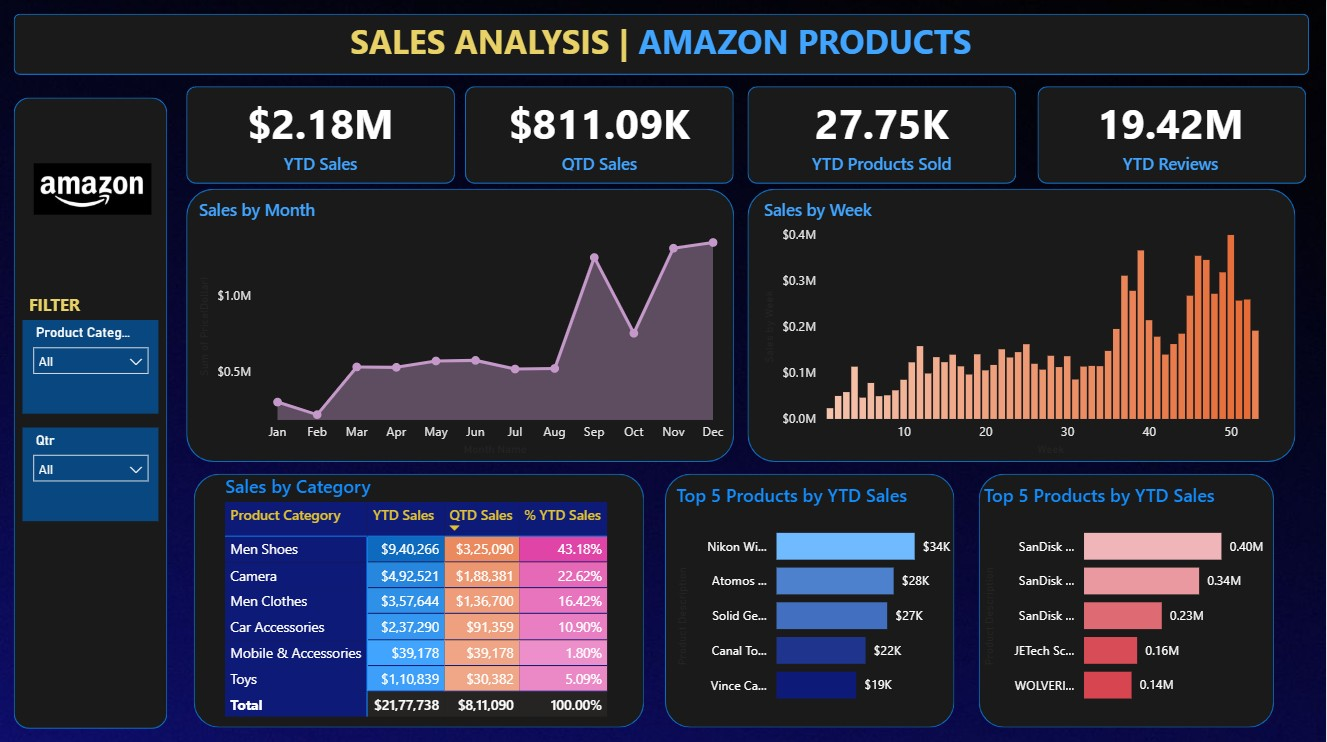

This screenshot's page, from the dashboard's own definition file:
{"tool":"powerbi","page":{"name":"Page 1","canvas":[1280,720],"ordinal":0},"visuals":[{"type":"shape","box":[179.6,82.7,259.4,94.1],"z":0,"group":"g1"},{"type":"shape","box":[13.7,13.7,1250.1,59],"z":0},{"type":"shape","box":[449,82.7,259.4,94.1],"z":1000,"group":"g1"},{"type":"textbox","box":[333,13.3,640.6,59.1],"z":1000},{"type":"card","fields":{"Values":["Amazon_Data.YTD Sales"]},"box":[186.7,89.1,245.2,80.1],"z":2000,"group":"g1"},{"type":"shape","box":[13.7,94.7,148.2,609.3],"z":2000},{"type":"shape","box":[721.2,82.7,259.4,94.1],"z":3000,"group":"g1"},{"type":"group","id":"g1","title":"Group 1","box":[179.6,82.7,1080.4,94.1],"z":3000},{"type":"shape","box":[1000.6,82.7,259.4,94.1],"z":4000,"group":"g1"},{"type":"shape","box":[179.6,182.4,528.8,263.7],"z":4000},{"type":"card","fields":{"Values":["Amazon_Data.QTD Sales"]},"box":[456.1,89.1,245.2,80.1],"z":5000,"group":"g1"},{"type":"areaChart","title":"Sales by Month","fields":{"Category":["Date Table.Month Name"],"Y":["Sum(Amazon_Data.Price(Dollar))"]},"box":[186.7,191,521.7,253.7],"z":5000},{"type":"card","fields":{"Values":["Amazon_Data.YTD Products Sold"]},"box":[728.4,89.1,245.2,80.1],"z":6000,"group":"g1"},{"type":"shape","box":[721.2,182.4,528.8,263.7],"z":6000},{"type":"card","fields":{"Values":["Amazon_Data.YTD Reviews"]},"box":[1007.8,89.1,245.2,80.1],"z":7000,"group":"g1"},{"type":"columnChart","title":"Sales by Week","fields":{"Category":["Date Table.Week"],"Y":["Sum(Amazon_Data.Price(Dollar))"]},"box":[732.7,191,507.4,253.7],"z":7000},{"type":"shape","box":[186.7,457.6,434.7,245.2],"z":8000},{"type":"pivotTable","title":"Sales by Category","fields":{"Rows":["Amazon_Data.Product Category"],"Values":["Amazon_Data.YTD Sales1","Amazon_Data.QTD Sales","Amazon_Data.YTD Sales"]},"box":[212.4,457.6,400.5,245.2],"z":9000},{"type":"shape","box":[641.4,457.6,279.4,245.2],"z":10000},{"type":"shape","box":[945,457.6,285.1,245.2],"z":11000},{"type":"clusteredBarChart","title":"Top 5 Products by YTD Sales","fields":{"Category":["Amazon_Data.Product Description"],"Y":["Amazon_Data.YTD Sales"]},"box":[647.9,465.7,284.7,228],"z":12000},{"type":"clusteredBarChart","title":"Top 5 Products by YTD Sales","fields":{"Category":["Amazon_Data.Product Description"],"Y":["Amazon_Data.YTD Reviews"]},"box":[944.6,465.7,284.7,228],"z":13000},{"type":"slicer","fields":{"Values":["Amazon_Data.Product Category"]},"box":[21.7,308.8,131.5,90.5],"z":14000},{"type":"slicer","fields":{"Values":["Date Table.Qtr"]},"box":[21.7,412.6,131.5,90.5],"z":15000},{"type":"image","box":[27.7,152,123.1,60.3],"z":16000},{"type":"textbox","box":[22.9,277.5,98.9,31.4],"z":17000}]}

Visuals, with their boxes in screenshot pixels (x1, y1, x2, y2), scaled from the page's 1280x720 canvas onto the 1327x742 screenshot:
shape: 186/85/455/182
shape: 14/14/1310/75
shape: 465/85/734/182
textbox: 345/14/1009/75
card - Amazon_Data.YTD Sales: 194/92/448/174
shape: 14/98/168/726
shape: 748/85/1017/182
"Group 1" group: 186/85/1306/182
shape: 1037/85/1306/182
shape: 186/188/734/460
card - Amazon_Data.QTD Sales: 473/92/727/174
"Sales by Month" areaChart: 194/197/734/458
card - Amazon_Data.YTD Products Sold: 755/92/1009/174
shape: 748/188/1296/460
card - Amazon_Data.YTD Reviews: 1045/92/1299/174
"Sales by Week" columnChart: 760/197/1286/458
shape: 194/472/644/724
"Sales by Category" pivotTable: 220/472/635/724
shape: 665/472/955/724
shape: 980/472/1275/724
"Top 5 Products by YTD Sales" clusteredBarChart: 672/480/967/715
"Top 5 Products by YTD Sales" clusteredBarChart: 979/480/1274/715
slicer - Amazon_Data.Product Category: 22/318/159/412
slicer - Date Table.Qtr: 22/425/159/518
image: 29/157/156/219
textbox: 24/286/126/318
